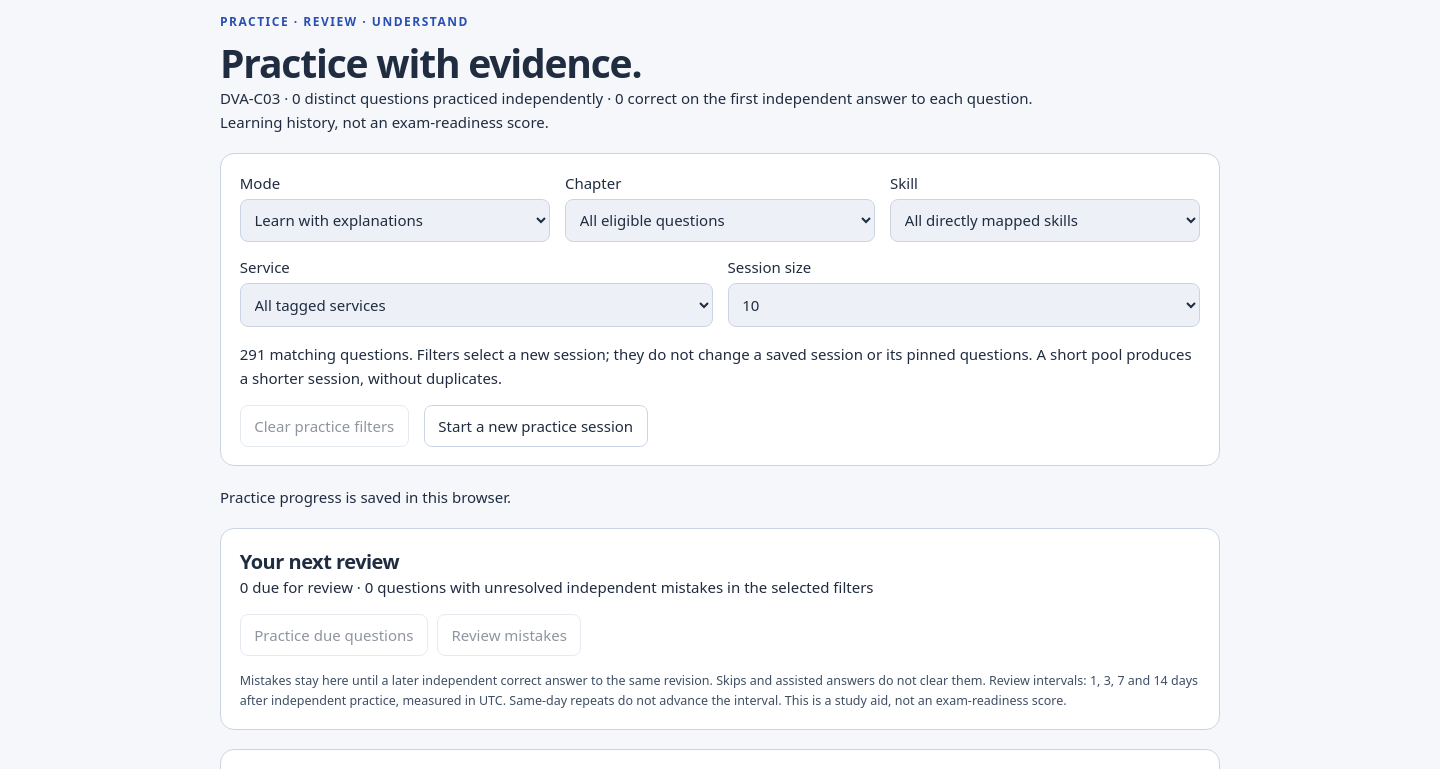
Test: refreshes clean practice after a bookmark write instead of failing the next session save
Expected: the text "Practice progress is saved in this browser." is shown, [220,487,511,507]
// Give the read-only event refresh an observable completion before a new user action.
Click the button "Start a new practice session": (536, 426) [424,404,648,446]
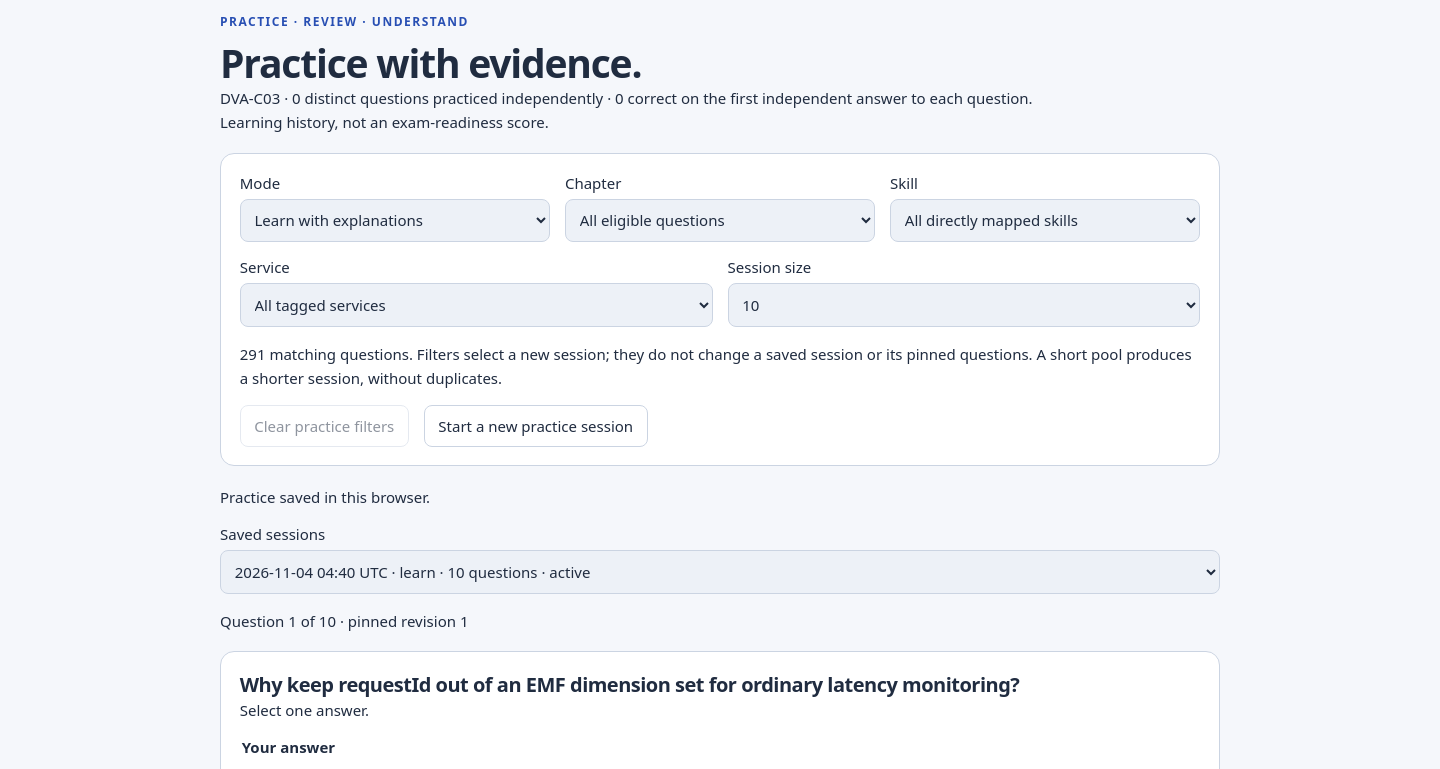
Result: the text "Practice saved in this browser." is shown at [220,487,430,507]
